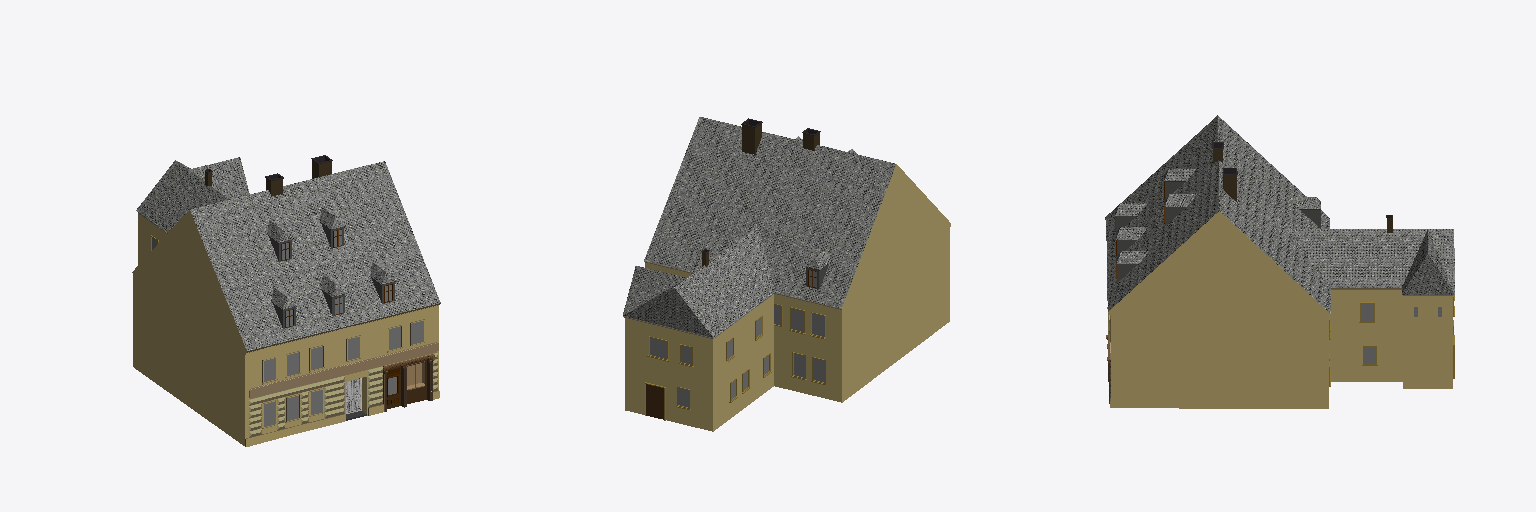
3 renders of one model, left to right at view 1: azimuth 30°, elevation 25°; view 2: azimuth 150°, elevation 25°; view 3: azimuth 270°, elevation 25°, orthographic.
Visible parts, largest first — view 1: Mesh01; view 2: Mesh01; view 3: Mesh01.
Boxes of the visible parts, <box> form: Mesh01: <box>132,155,440,446</box>; Mesh01: <box>623,117,950,431</box>; Mesh01: <box>1105,115,1454,408</box>.
Size of the model in its own units: 1.37 by 1.39 by 2.09.
26 materials, 3 textured.